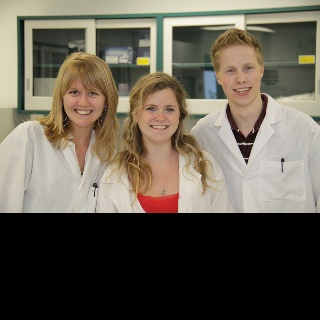without_mask: (218, 43, 260, 106)
